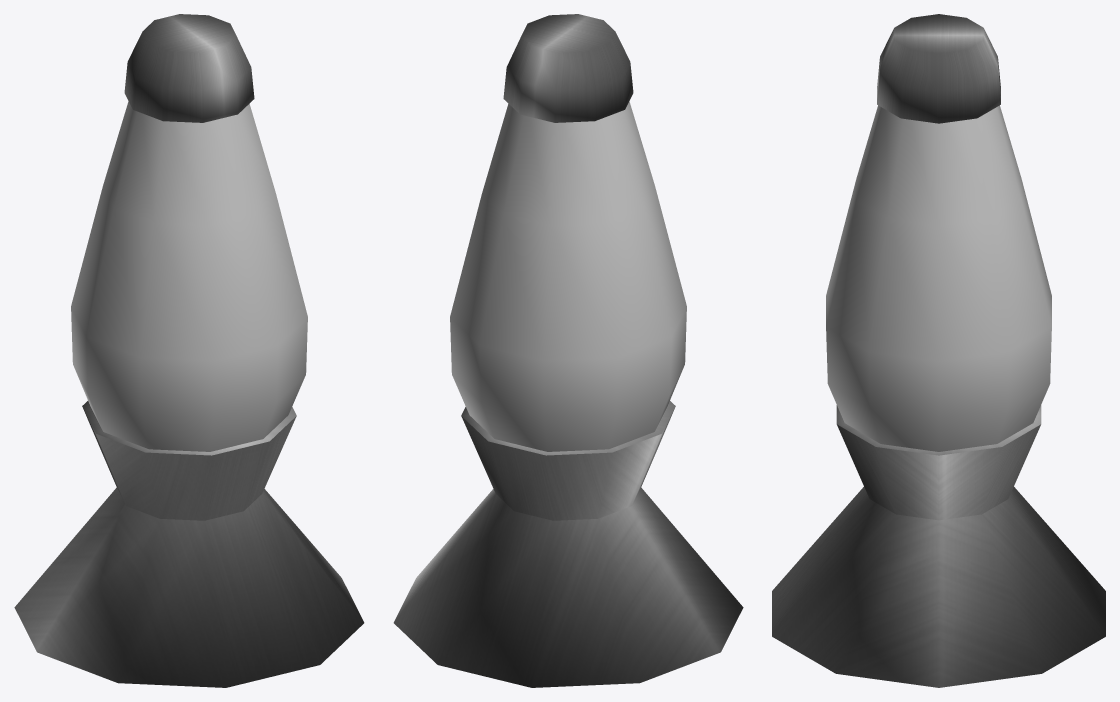
File: Lava_Lamp_D.FBX
The picture shows the model from 3 angles, left to right: view 1: azimuth 30°, elevation 25°; view 2: azimuth 150°, elevation 25°; view 3: azimuth 270°, elevation 25°; orthographic projection.
Visible parts, largest first — view 1: Lava_Lamp, Bottom, Top; view 2: Lava_Lamp, Bottom, Top; view 3: Lava_Lamp, Bottom, Top.
Part boxes in pixels (left/top/right/bottom): Lava_Lamp: left=71, top=101, right=307, bottom=451; Bottom: left=14, top=401, right=364, bottom=687; Top: left=124, top=14, right=254, bottom=122; Lava_Lamp: left=450, top=101, right=686, bottom=451; Bottom: left=393, top=401, right=743, bottom=687; Top: left=503, top=14, right=633, bottom=122; Lava_Lamp: left=826, top=105, right=1051, bottom=451; Bottom: left=772, top=405, right=1105, bottom=687; Top: left=877, top=14, right=1000, bottom=123.
Size of the model in its own units: 55.18 by 101 by 52.47.
